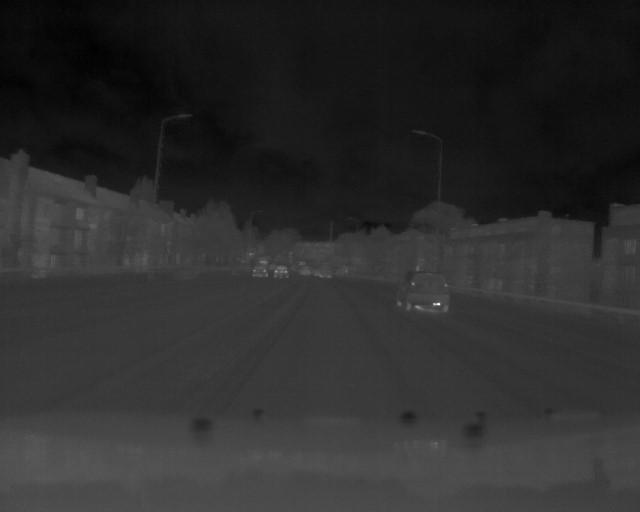car: (394, 269, 454, 316), (273, 263, 291, 280)
w: (251, 262, 270, 280)
